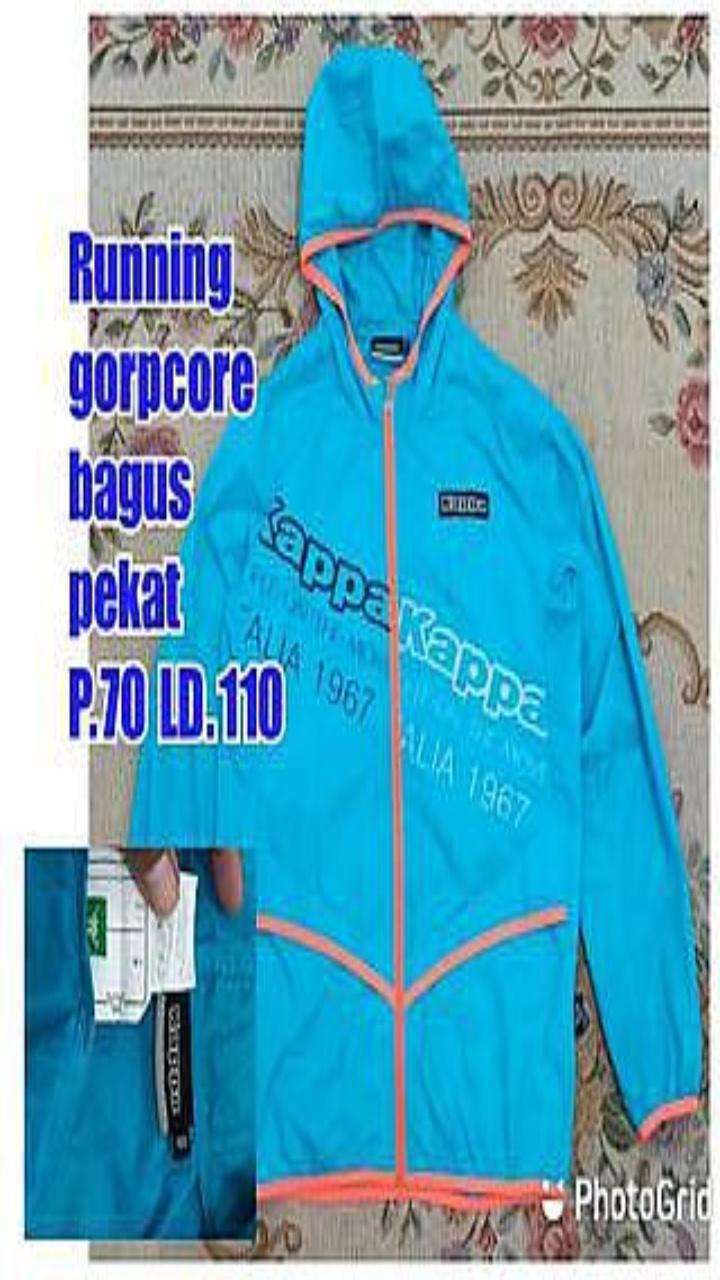Sports_Jacket: (131, 48, 700, 1207), (26, 849, 254, 1240)
